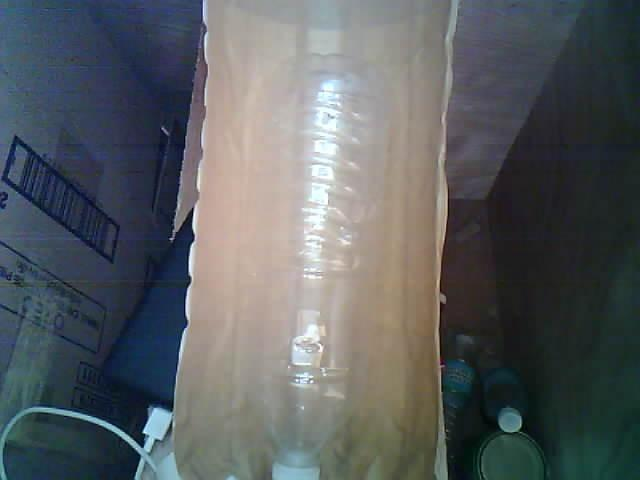large_bottle: (230, 39, 409, 480)
